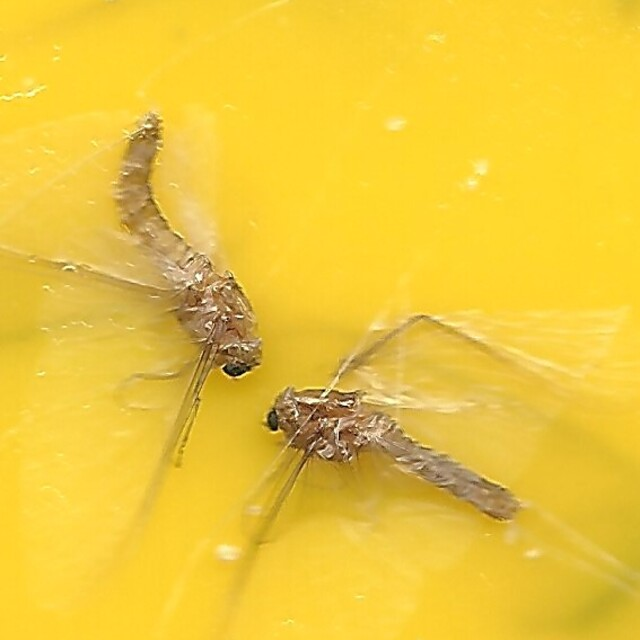Ephemeroptera: (113, 113, 263, 382), (263, 381, 527, 527)
